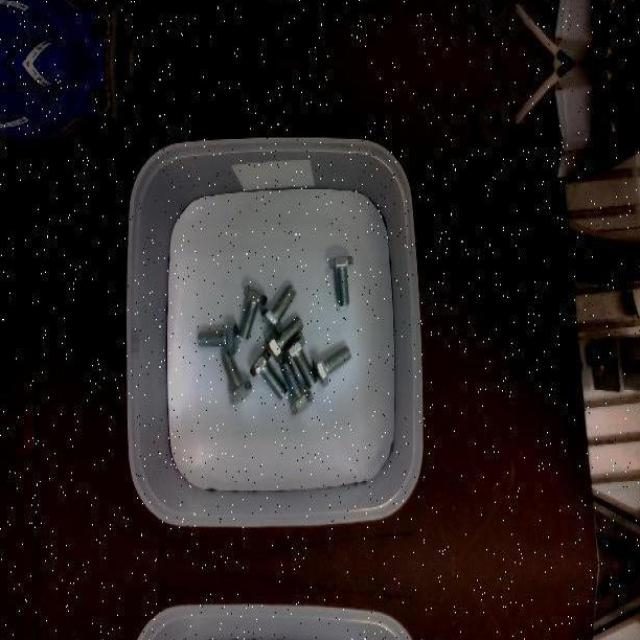screw: (250, 349, 289, 401), (261, 284, 298, 334), (281, 359, 315, 413), (266, 316, 304, 363), (284, 334, 317, 386), (236, 285, 267, 340), (314, 343, 352, 386), (221, 352, 252, 404), (198, 321, 240, 355), (328, 254, 354, 306)
